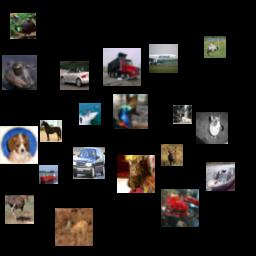airplane: (149, 44, 178, 73)
automobile: (161, 189, 199, 227), (73, 147, 105, 179), (60, 61, 89, 90)
bird: (113, 94, 148, 129), (5, 195, 34, 224), (10, 13, 36, 39), (204, 36, 226, 58)
cat: (117, 155, 155, 193), (196, 112, 228, 144)
deer: (55, 208, 93, 246), (161, 144, 183, 166), (173, 105, 192, 124)
dog: (0, 126, 38, 164)
frog: (2, 55, 37, 90)
ship: (206, 162, 235, 191), (79, 103, 101, 125), (39, 165, 58, 184)
truck: (103, 48, 141, 86)
